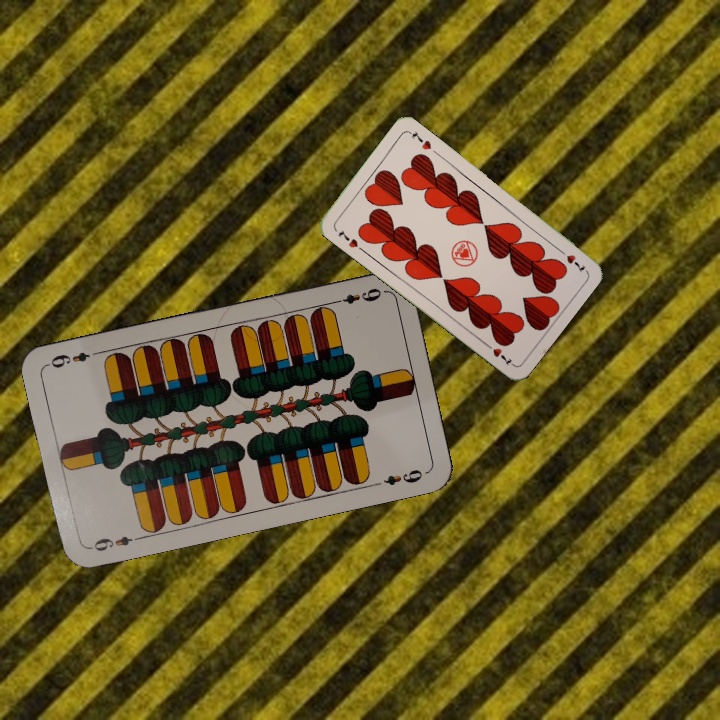E9: (328, 284, 384, 307), (86, 532, 144, 554)
H7: (554, 244, 589, 275), (334, 225, 361, 250)
